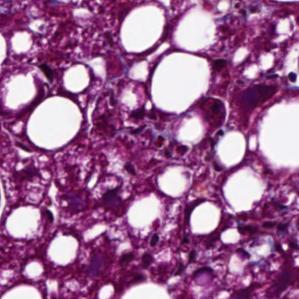inflammation: (238, 56, 287, 124)
